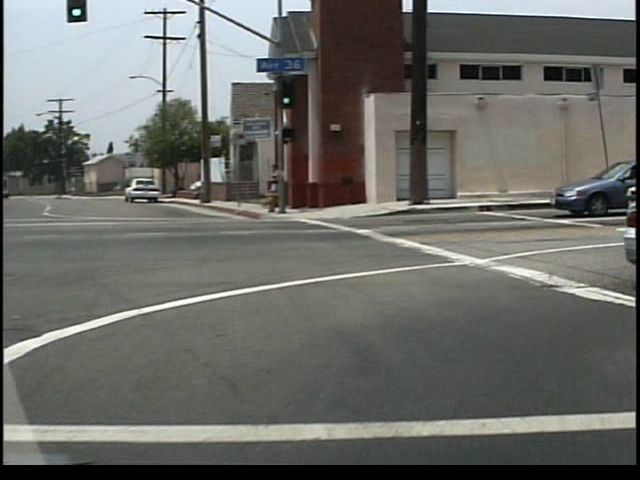person: (273, 164, 291, 215)
